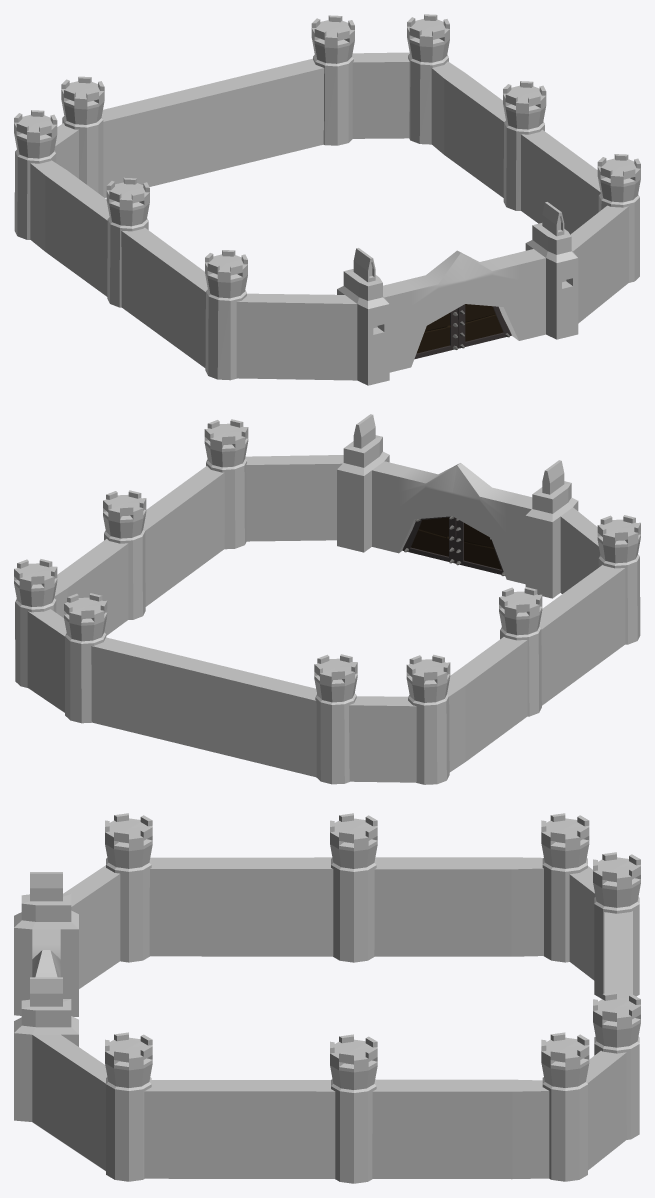
The model's file is CastleOutside_Asset.fbx.
The picture shows the model from 3 angles, top to bottom: view 1: azimuth 30°, elevation 25°; view 2: azimuth 150°, elevation 25°; view 3: azimuth 270°, elevation 25°; orthographic projection. The views are drawn at different scales.
Visible parts, largest first — view 1: polySurface10, polySurface14, polySurface17, polySurface12, polySurface18, polySurface16, polySurface13, polySurface15, polySurface11, polySurface19, polySurface20; view 2: polySurface10, polySurface13, polySurface18, polySurface17, polySurface11, polySurface16, polySurface14, polySurface15, polySurface12, polySurface19, polySurface20; view 3: polySurface10, polySurface15, polySurface12, polySurface11, polySurface16, polySurface14, polySurface13, polySurface18, polySurface17.
Part boxes in pixels (left/top/right/bottom): polySurface10: left=30, top=52, right=628, bottom=385; polySurface14: left=205, top=250, right=247, bottom=380; polySurface17: left=311, top=15, right=354, bottom=145; polySurface12: left=407, top=14, right=449, bottom=144; polySurface18: left=61, top=76, right=104, bottom=196; polySurface16: left=503, top=81, right=546, bottom=210; polySurface13: left=14, top=110, right=57, bottom=239; polySurface15: left=106, top=177, right=149, bottom=307; polySurface11: left=597, top=154, right=640, bottom=282; polySurface19: left=457, top=304, right=511, bottom=348; polySurface20: left=414, top=308, right=457, bottom=359; polySurface10: left=27, top=414, right=625, bottom=782; polySurface13: left=406, top=654, right=450, bottom=784; polySurface18: left=314, top=654, right=357, bottom=784; polySurface17: left=64, top=593, right=107, bottom=723; polySurface11: left=204, top=419, right=248, bottom=549; polySurface16: left=103, top=490, right=146, bottom=619; polySurface14: left=597, top=515, right=640, bottom=644; polySurface15: left=499, top=587, right=542, bottom=716; polySurface12: left=14, top=559, right=57, bottom=687; polySurface19: left=402, top=516, right=456, bottom=563; polySurface20: left=456, top=518, right=504, bottom=575; polySurface10: left=14, top=857, right=632, bottom=1179; polySurface15: left=330, top=813, right=377, bottom=962; polySurface12: left=541, top=1032, right=589, bottom=1181; polySurface11: left=105, top=1032, right=152, bottom=1181; polySurface16: left=330, top=1034, right=377, bottom=1183; polySurface14: left=105, top=813, right=152, bottom=962; polySurface13: left=541, top=813, right=589, bottom=962; polySurface18: left=593, top=852, right=640, bottom=998; polySurface17: left=593, top=992, right=640, bottom=1139.
Size of the model in its own units: 29.67 by 7.81 by 32.46.
